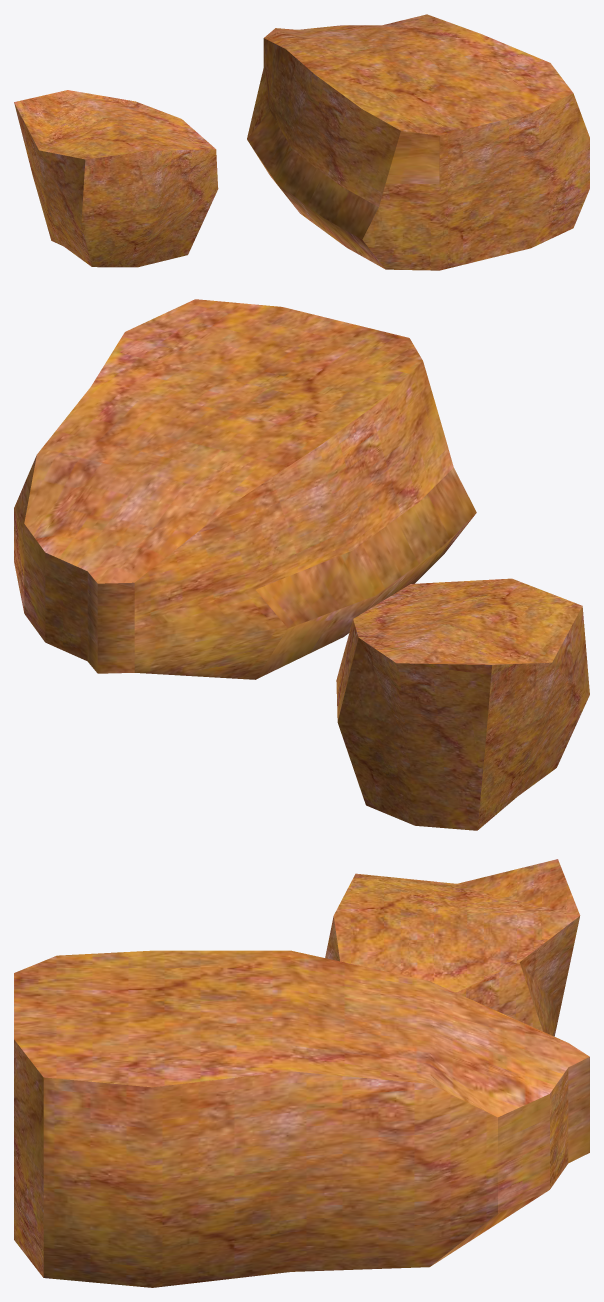
File: xionghuang.FBX
The picture shows the model from 3 angles, top to bottom: view 1: azimuth 30°, elevation 25°; view 2: azimuth 150°, elevation 25°; view 3: azimuth 270°, elevation 25°; orthographic projection. The views are drawn at different scales.
Visible parts, largest first — view 1: Box001, Box002; view 2: Box001, Box002; view 3: Box001, Box002.
Boxes of the visible parts, left/top/right/bottom form: Box001: left=247, top=14, right=589, bottom=270; Box002: left=14, top=90, right=218, bottom=267; Box001: left=14, top=299, right=476, bottom=679; Box002: left=336, top=578, right=589, bottom=830; Box001: left=14, top=950, right=589, bottom=1287; Box002: left=325, top=859, right=580, bottom=1036.
Bounding box in the file's own units: 69.67 × 27.57 × 54.99.
